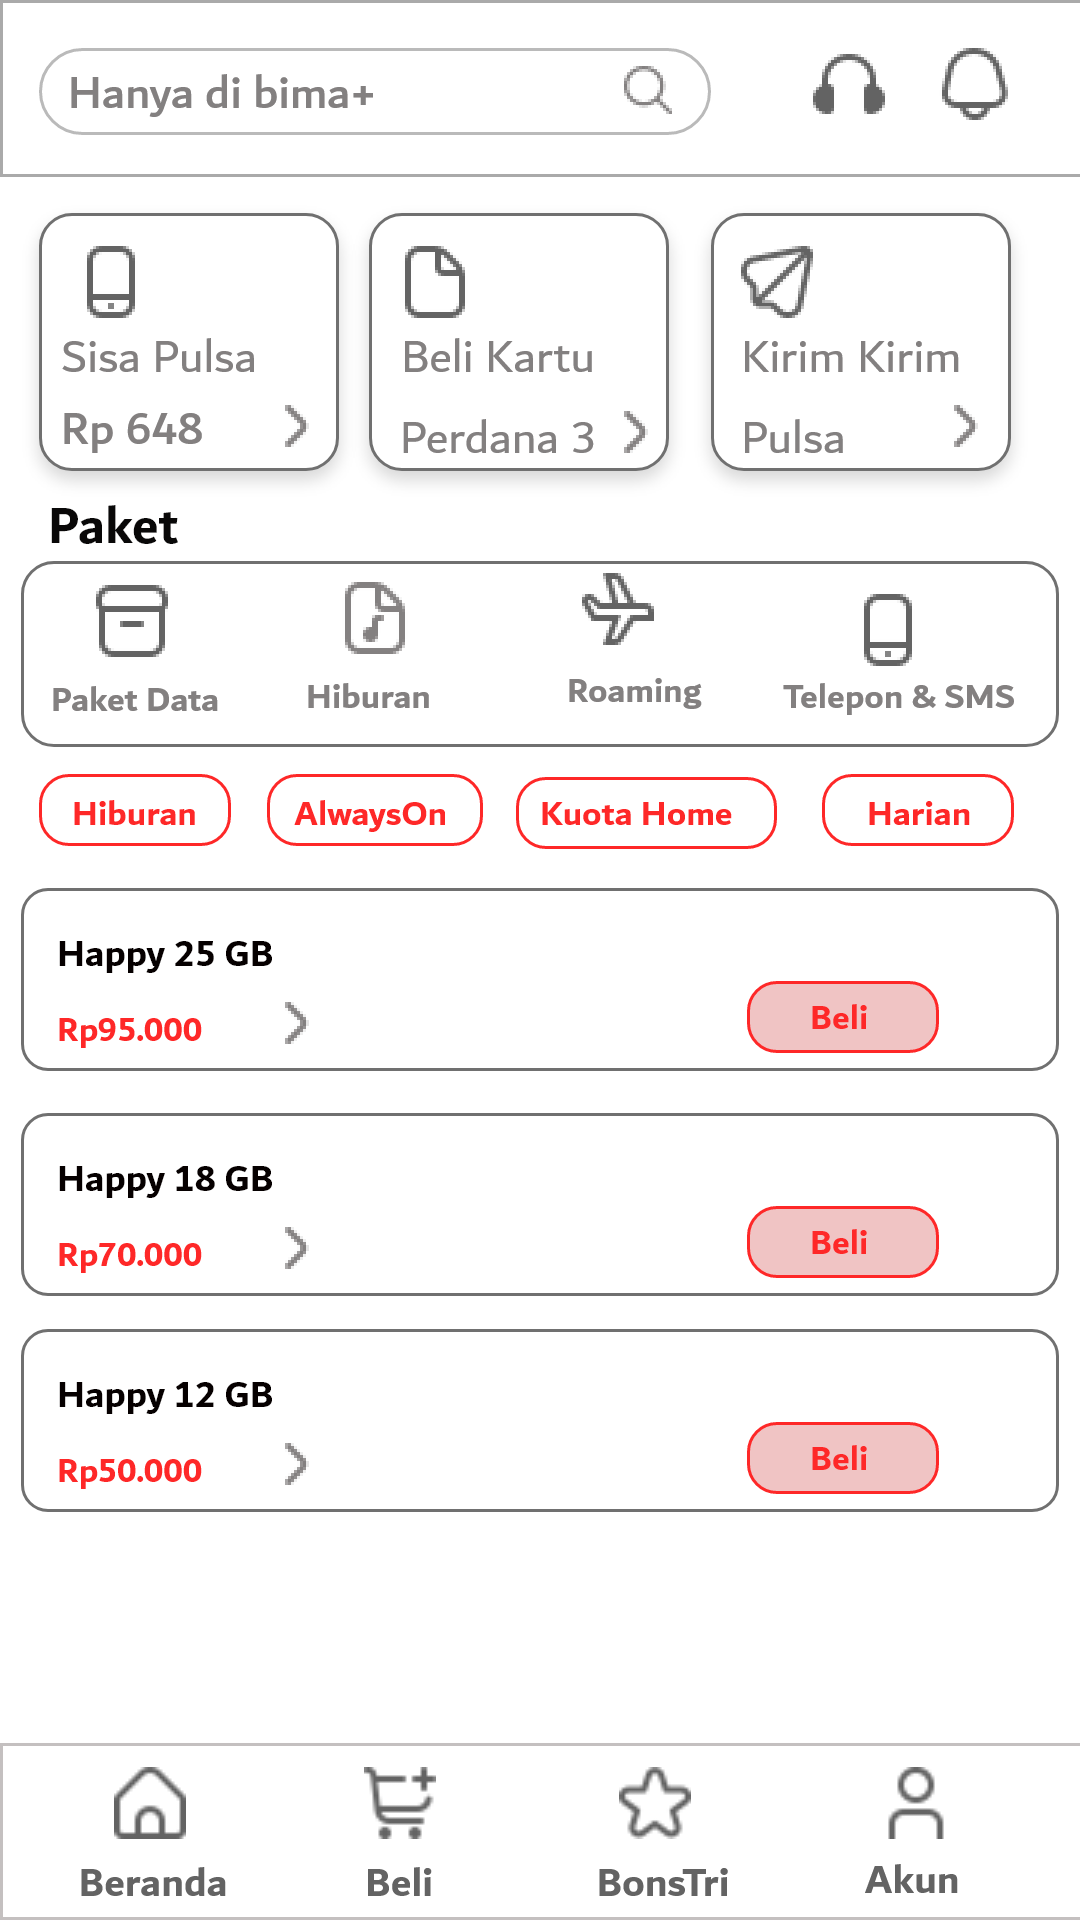

Where icons sit on this 1080*1920 app screen, as (x1, y1, x2, y2):
star: (619, 1767, 691, 1839)
